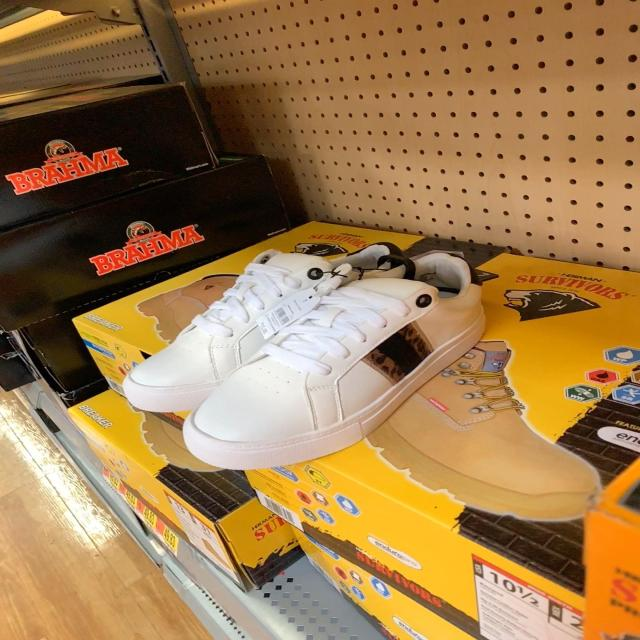shoe: (180, 249, 489, 467), (123, 242, 413, 414)
